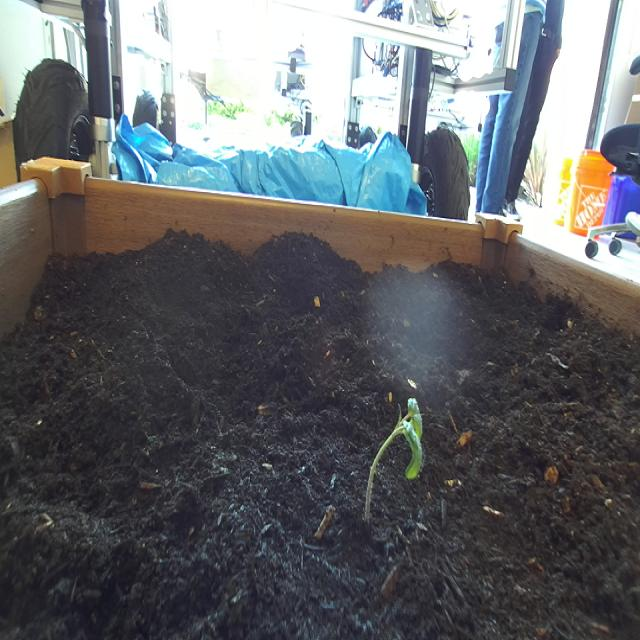Healthy: (362, 389, 428, 531)
